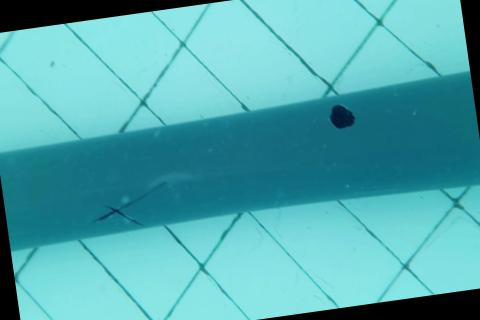kebocoran: (326, 99, 356, 132)
keretakan: (88, 179, 170, 231)
